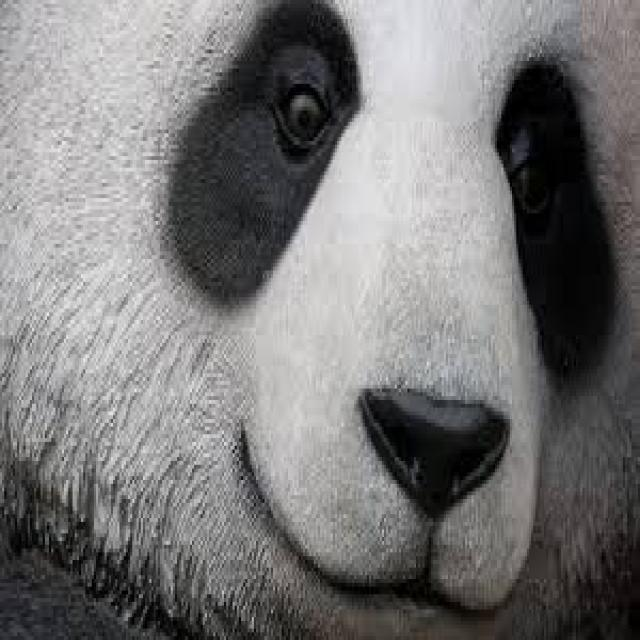Panda: (0, 2, 639, 640)
